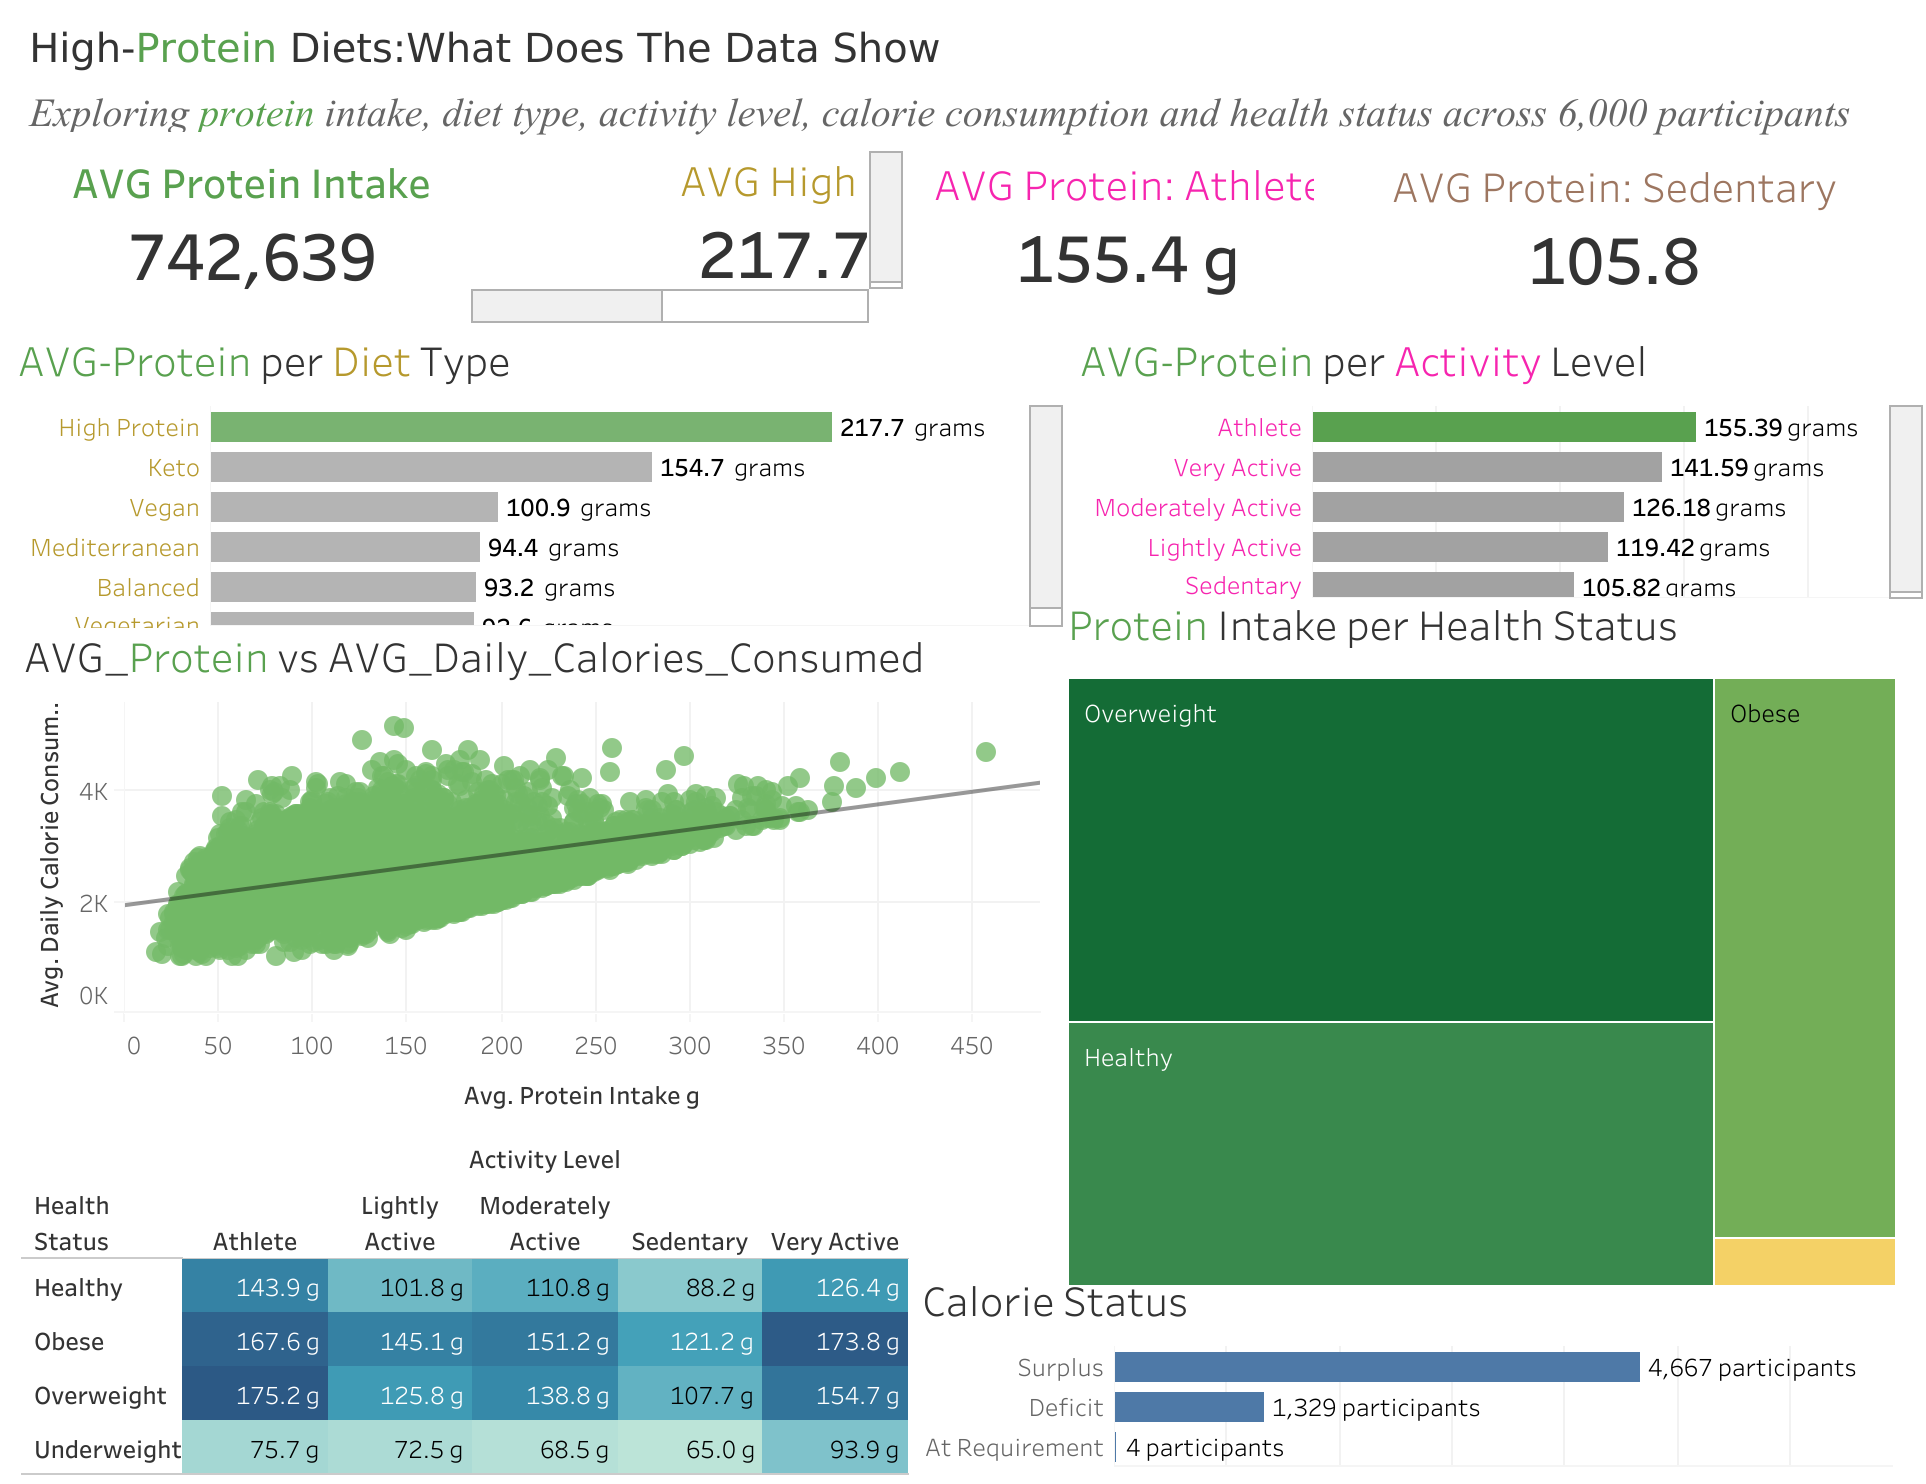

The page's visual inventory and layout, read from the dashboard file:
{"tool":"tableau","page":{"name":"High-Protein Dashboard","canvas":[1000,1000],"units":"permille","ordinal":0},"visuals":[{"type":"title","box":[4.3,10.1,991.4,40.5]},{"type":"text","box":[4.3,50.6,991.4,40.5]},{"type":"worksheet","title":"protein_kpi_card","mark":"Text","box":[1.1,88.5,260.1,126.4]},{"type":"worksheet","title":"avg protein athlete","mark":"Automatic","box":[472.9,97.4,225.7,112.5]},{"type":"worksheet","title":"avg protein sedentary","mark":"Automatic","box":[682,101.1,313.1,108.7]},{"type":"worksheet","title":"protein per diet type kpi","mark":"Automatic","box":[244.5,102.4,224.1,115]},{"type":"worksheet","title":"protein per diet type","mark":"Automatic","rows":["Diet_Type"],"cols":["Protein_Intake_g"],"box":[4.7,215.4,547.7,205.9]},{"type":"worksheet","title":"protein per activity level","mark":"Automatic","rows":["Activity_Level"],"cols":["Protein_Intake_g"],"box":[556.5,215.4,441.8,187]},{"type":"worksheet","title":"Protein Intake per Health Status","mark":"Automatic","box":[550,392.9,437.1,478.1]},{"type":"worksheet","title":"protein vs calories","mark":"Circle","rows":["Daily_Calorie_Consumed"],"cols":["Protein_Intake_g"],"box":[8.2,414.2,530.7,343.2]},{"type":"worksheet","title":"Health Status vs Activity Level","mark":"Square","rows":["Health_Status"],"cols":["Activity_Level"],"box":[6.4,766.1,478.8,226.3]},{"type":"worksheet","title":"Calorie Status","mark":"Automatic","rows":["Calculation_4548646812688384"],"cols":["Person_ID"],"box":[491.2,848.3,490.6,141.6]}]}

Visuals, with their boxes on the dashboard's canvas, which has no fixed pixel size, in thousandths of its width and height (x1, y1, x2, y2). These are canvas units, not pixel positions in the 1926x1484 screenshot, which may show the page scaled, cropped or inside an application window:
title: rect(4, 10, 996, 51)
text: rect(4, 51, 996, 91)
"protein_kpi_card" worksheet (Text marks): rect(1, 88, 261, 215)
"avg protein athlete" worksheet: rect(473, 97, 699, 210)
"avg protein sedentary" worksheet: rect(682, 101, 995, 210)
"protein per diet type kpi" worksheet: rect(244, 102, 469, 217)
"protein per diet type" worksheet: rect(5, 215, 552, 421)
"protein per activity level" worksheet: rect(556, 215, 998, 402)
"Protein Intake per Health Status" worksheet: rect(550, 393, 987, 871)
"protein vs calories" worksheet (Circle marks): rect(8, 414, 539, 757)
"Health Status vs Activity Level" worksheet (Square marks): rect(6, 766, 485, 992)
"Calorie Status" worksheet: rect(491, 848, 982, 990)
